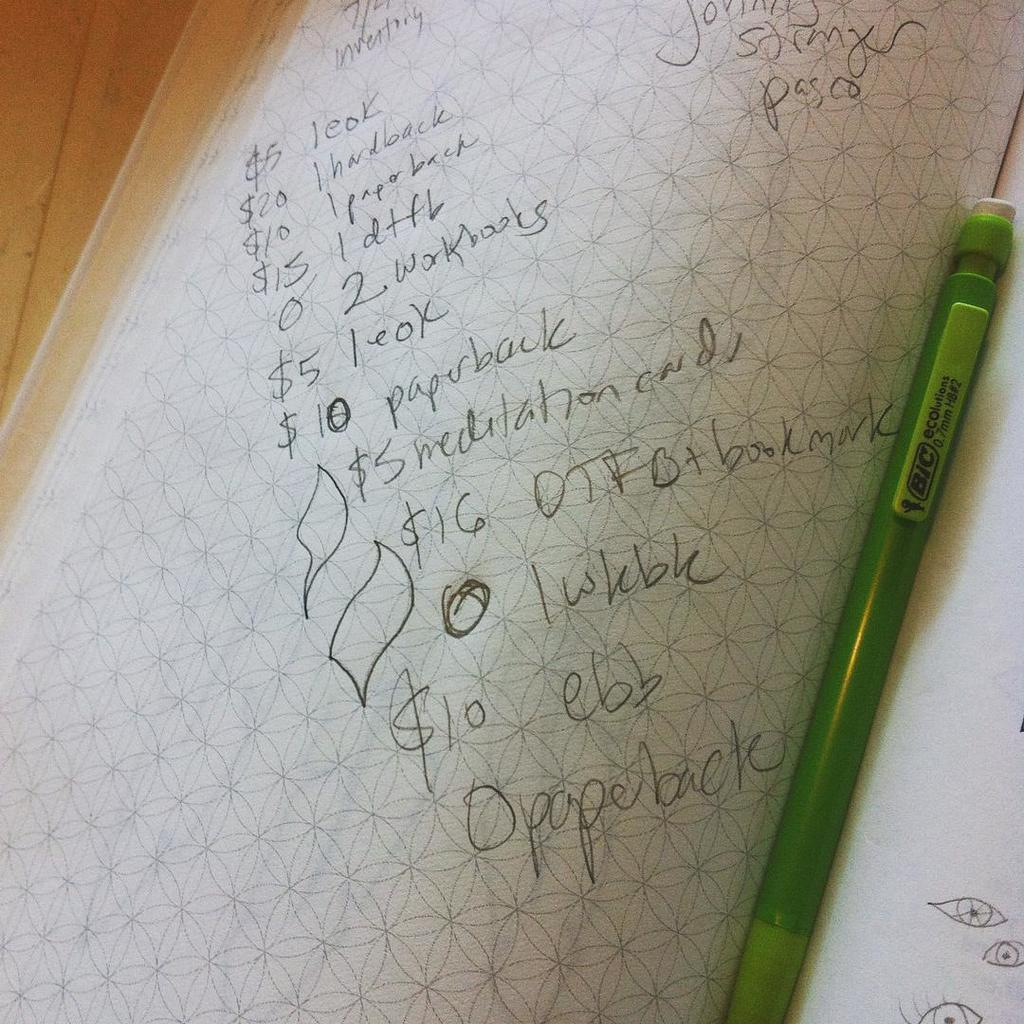Pen: (707, 198, 1015, 1023)
